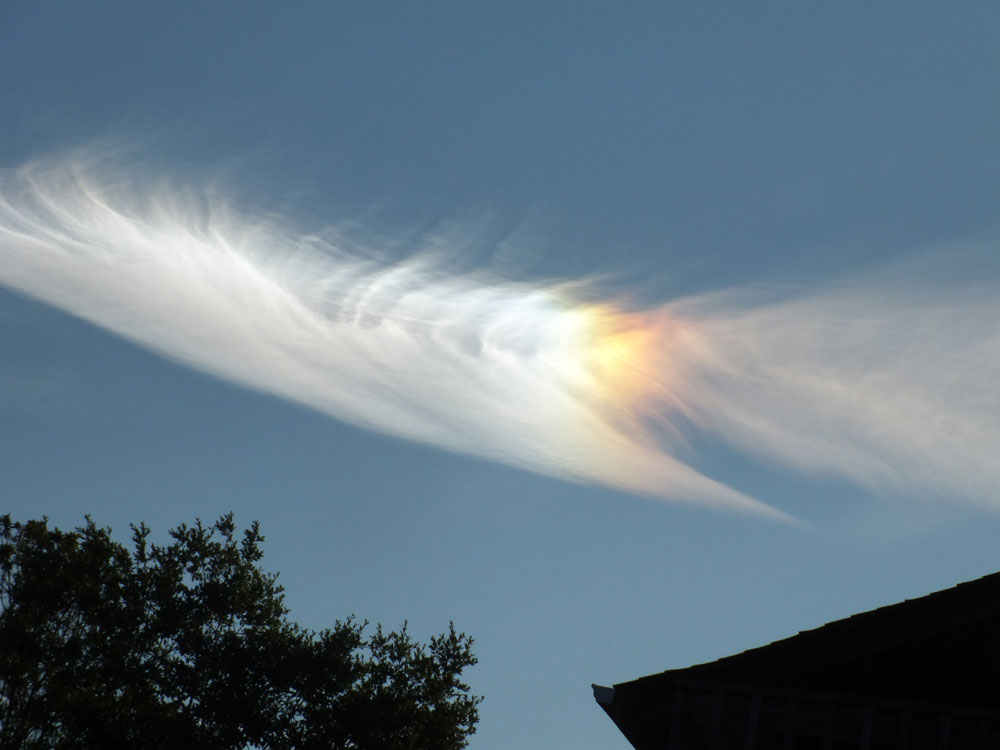Cirrus: (12, 97, 1000, 507)
